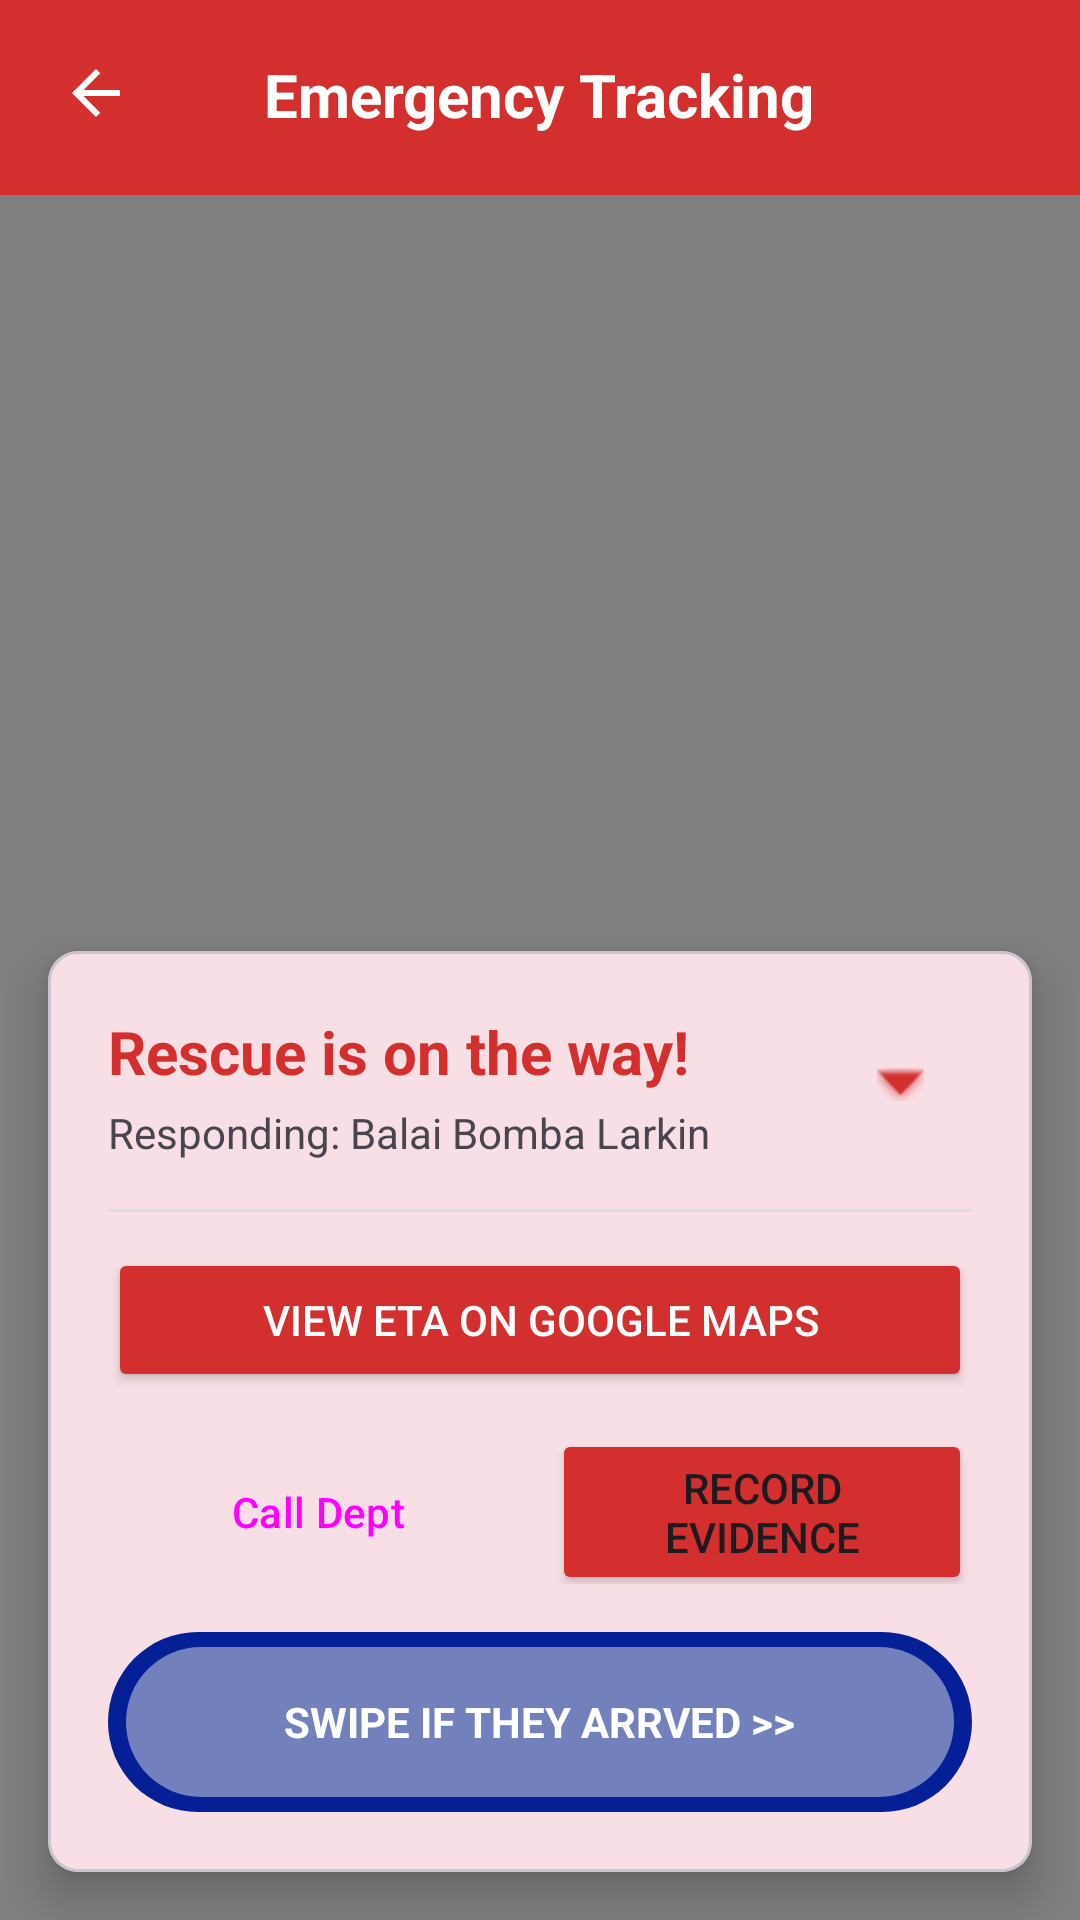

Where icons sit on this 1080 × 1920 app screen, as (x1, y1, x2, y2):
back: (72, 69, 120, 117)
Toggle visibility: (877, 1068, 924, 1099)
